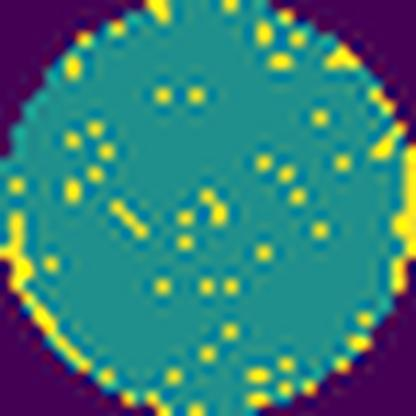Edge-Loc: (0, 210, 96, 378), (384, 145, 416, 294)
